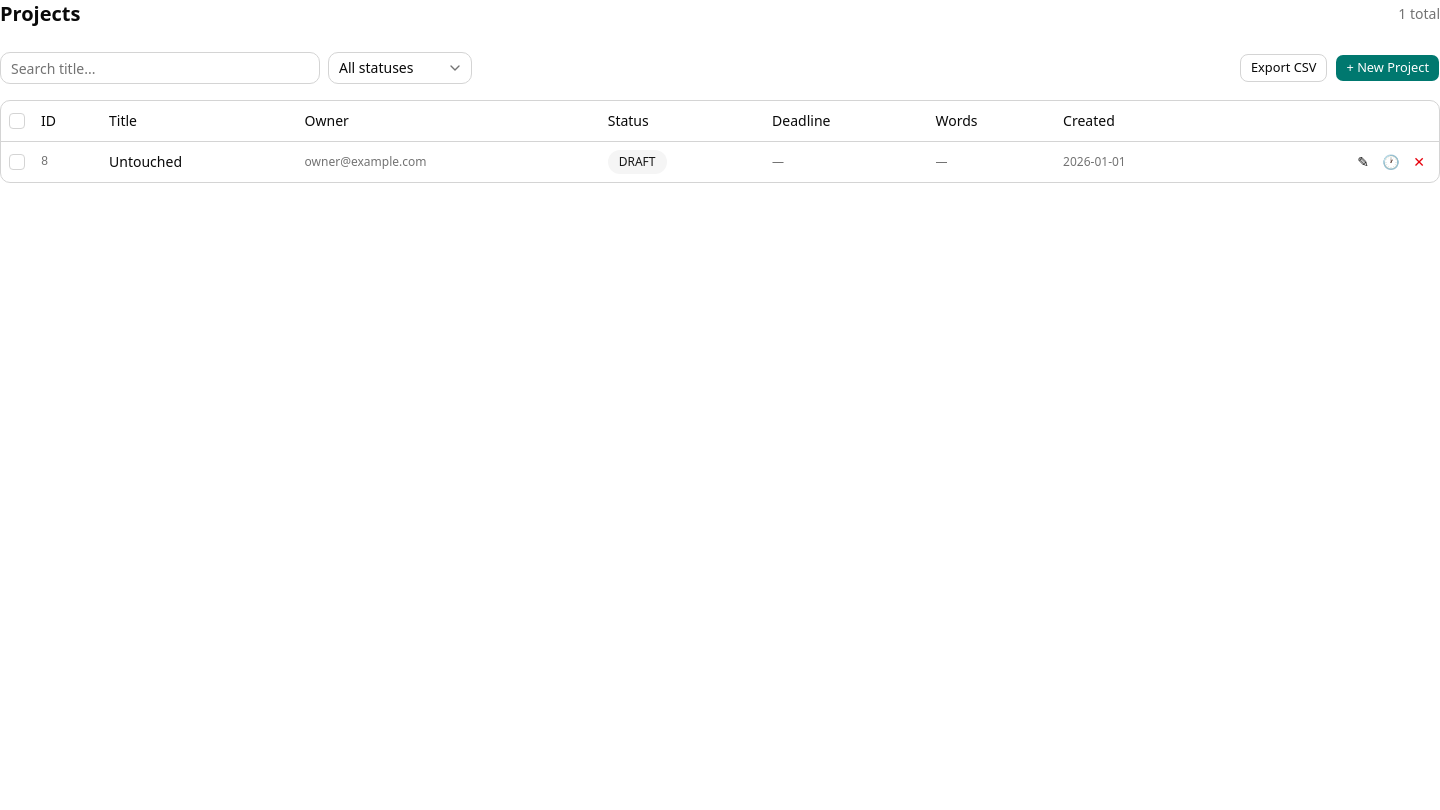
Test: AdminProjectsTable › cancels the Edit dialog without saving
Expected: the text "Untouched" is shown, [101,141,297,182]
Click the button named "Edit". click: (1363, 162)
box: [1351,150,1375,174]
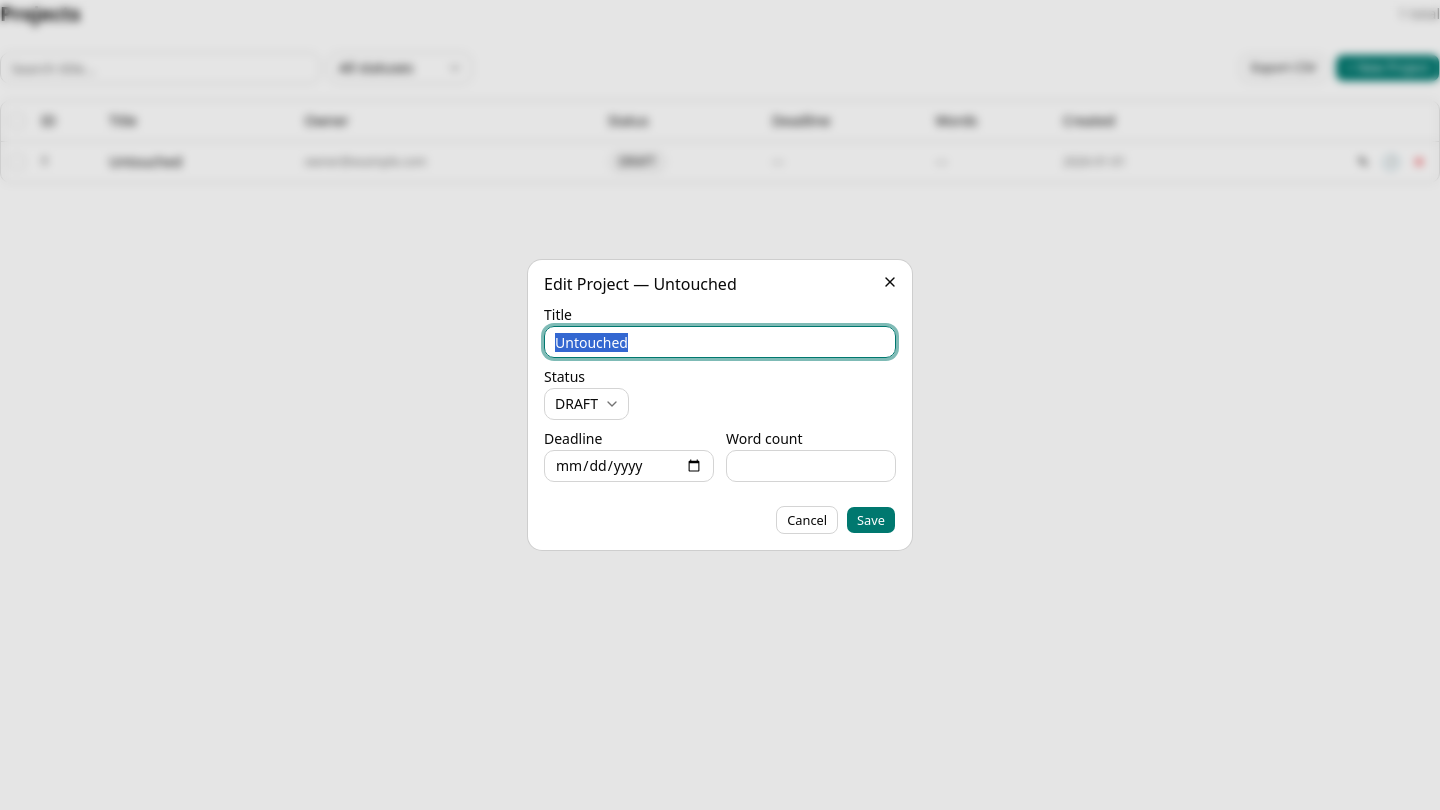
Click the button "Cancel". click: (807, 520)
box: [776,506,838,534]
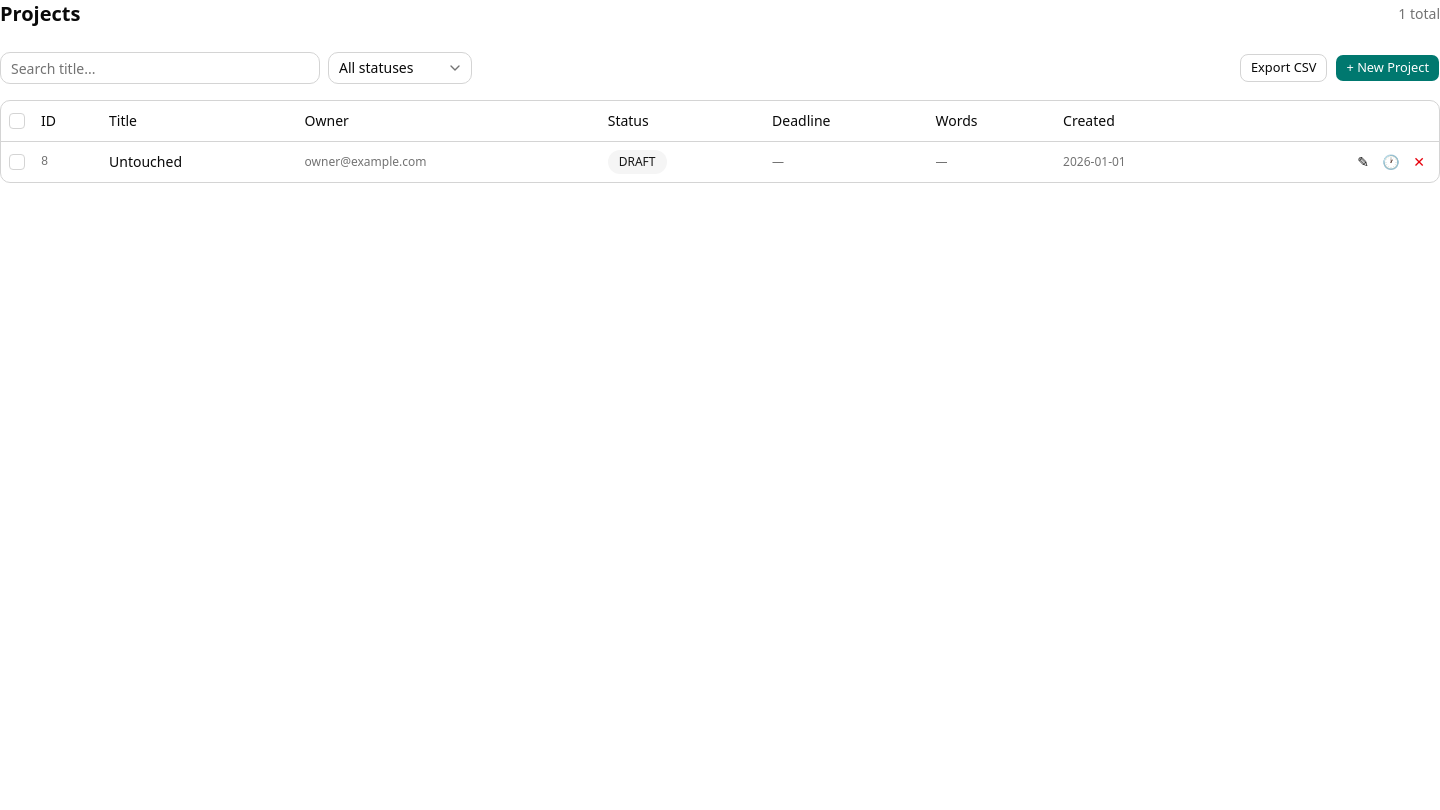
Result: the dialog is gone
